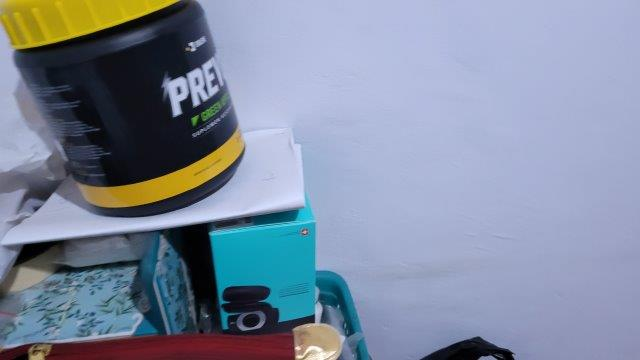kertas: (1, 127, 306, 245)
